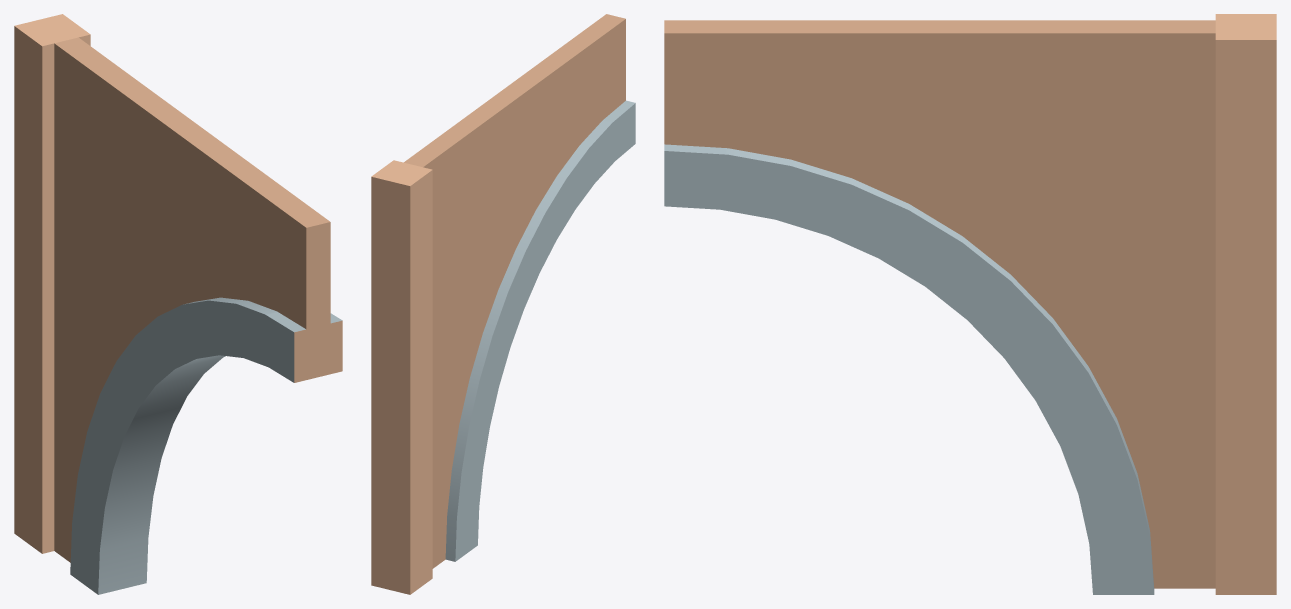
The model's file is wallWoodArchTop.glb.
3 renders of one model, left to right at view 1: azimuth 30°, elevation 25°; view 2: azimuth 150°, elevation 25°; view 3: azimuth 270°, elevation 25°, orthographic. The views are drawn at different scales.
Parts seen in each view (by area): view 1: wallWoodArchTop; view 2: wallWoodArchTop; view 3: wallWoodArchTop.
Boxes of the visible parts, left/top/right/bottom form: wallWoodArchTop: left=14, top=14, right=342, bottom=594; wallWoodArchTop: left=371, top=14, right=635, bottom=594; wallWoodArchTop: left=664, top=14, right=1276, bottom=594.
Size of the model in its own units: 0.1 by 1 by 1.
